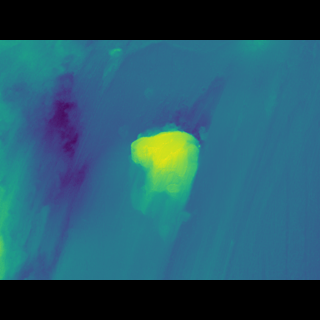Loch: (124, 94, 226, 217)
